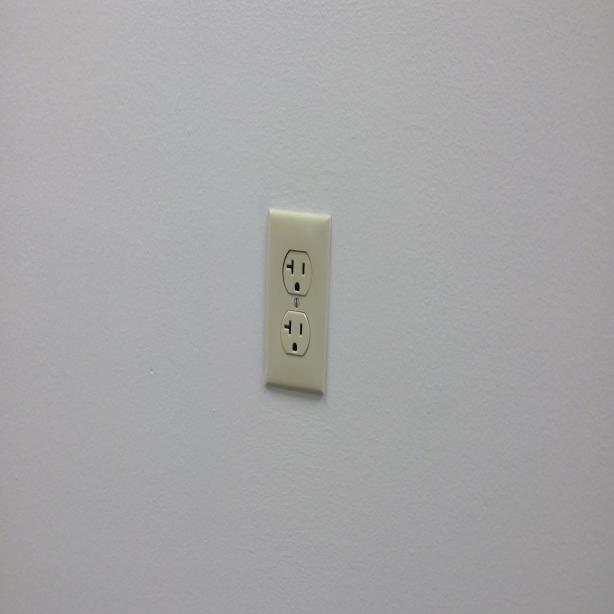typeb: (281, 312, 310, 358), (282, 252, 310, 296)
